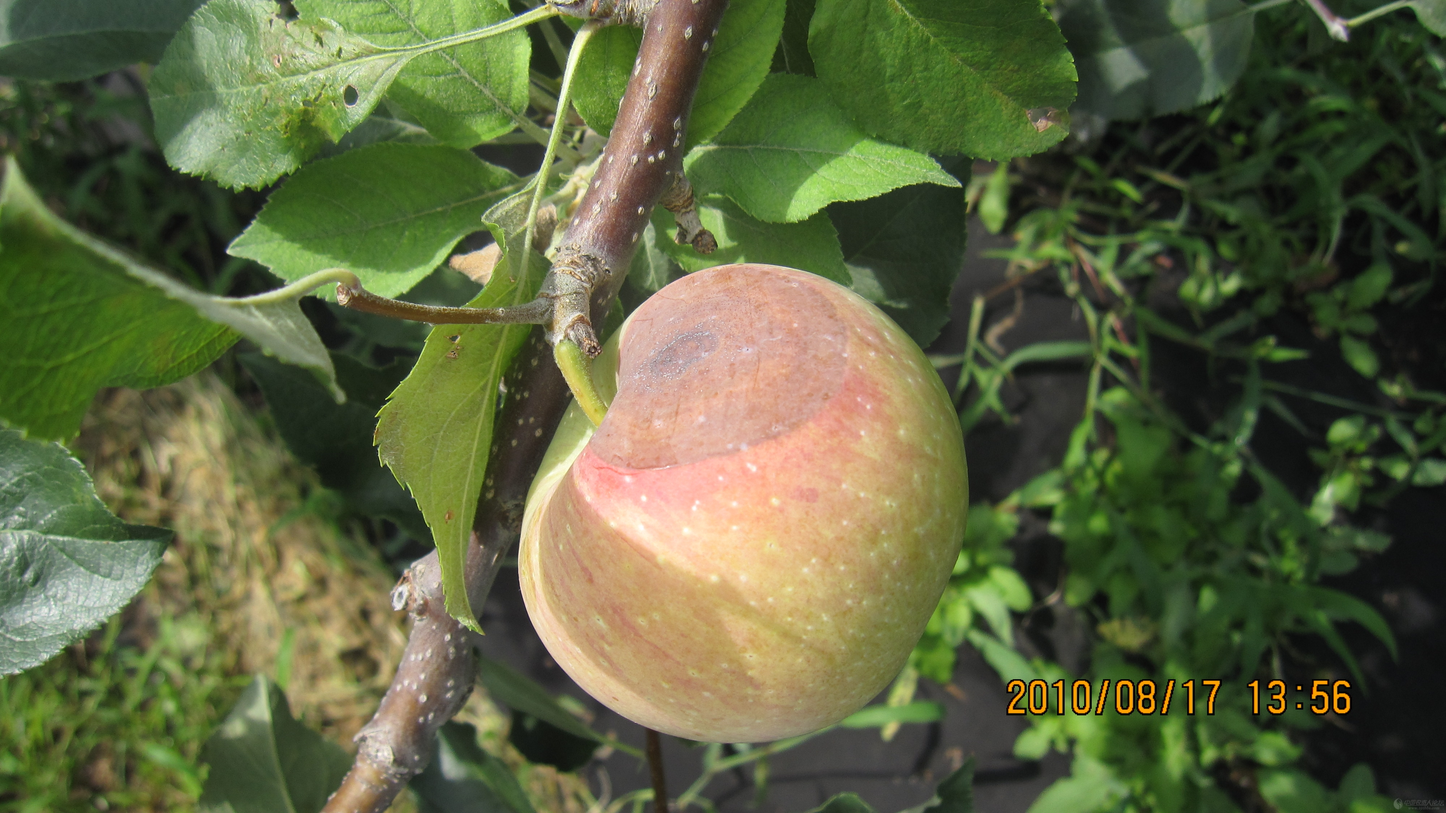defect: (594, 251, 862, 487)
